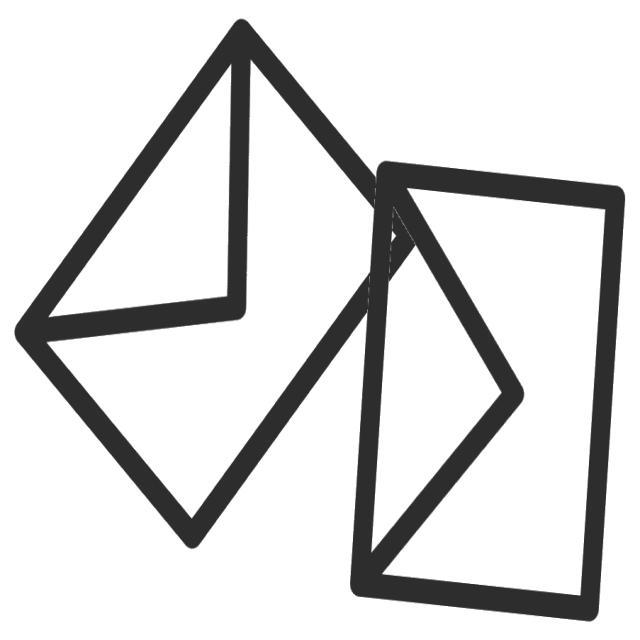letter: (8, 15, 429, 566), (340, 154, 629, 630)
